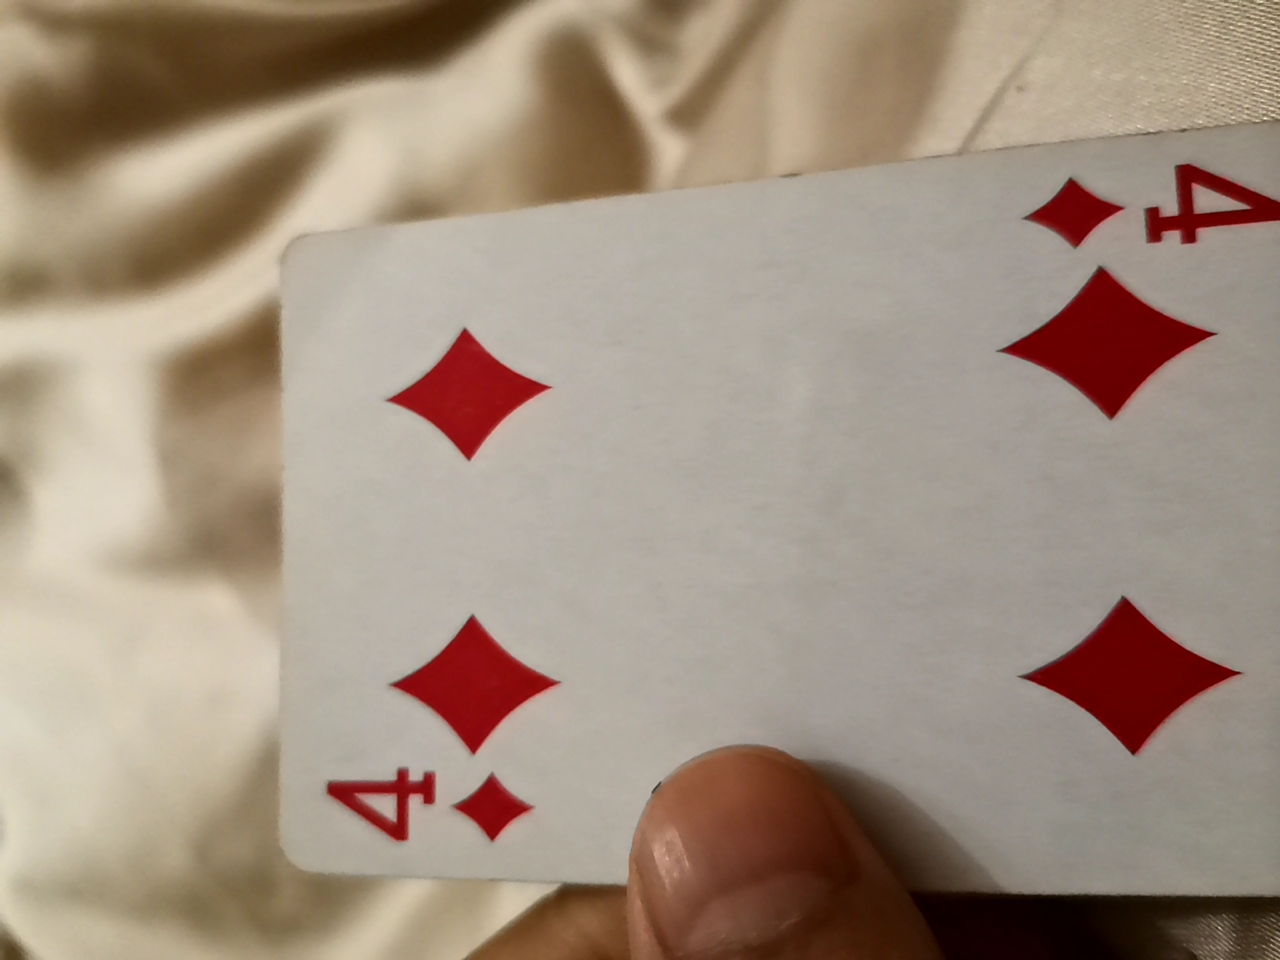fk 4: (209, 128, 1274, 936)
